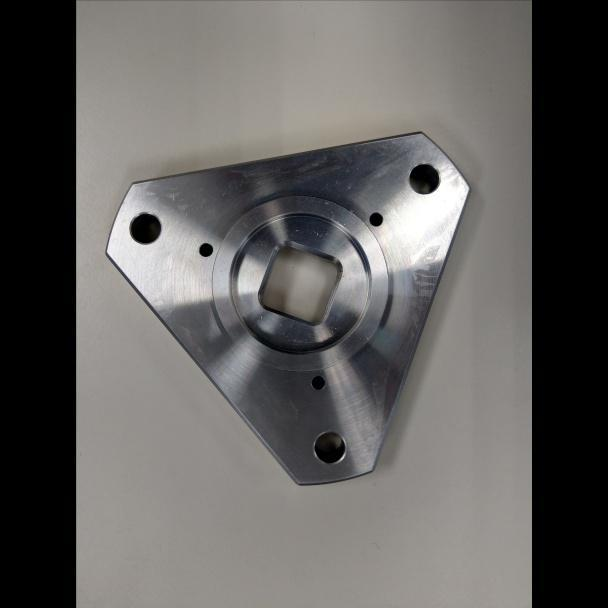hole: (309, 428, 349, 467), (403, 160, 444, 197), (126, 210, 163, 246), (366, 208, 386, 229), (307, 373, 329, 392), (195, 238, 214, 259)
